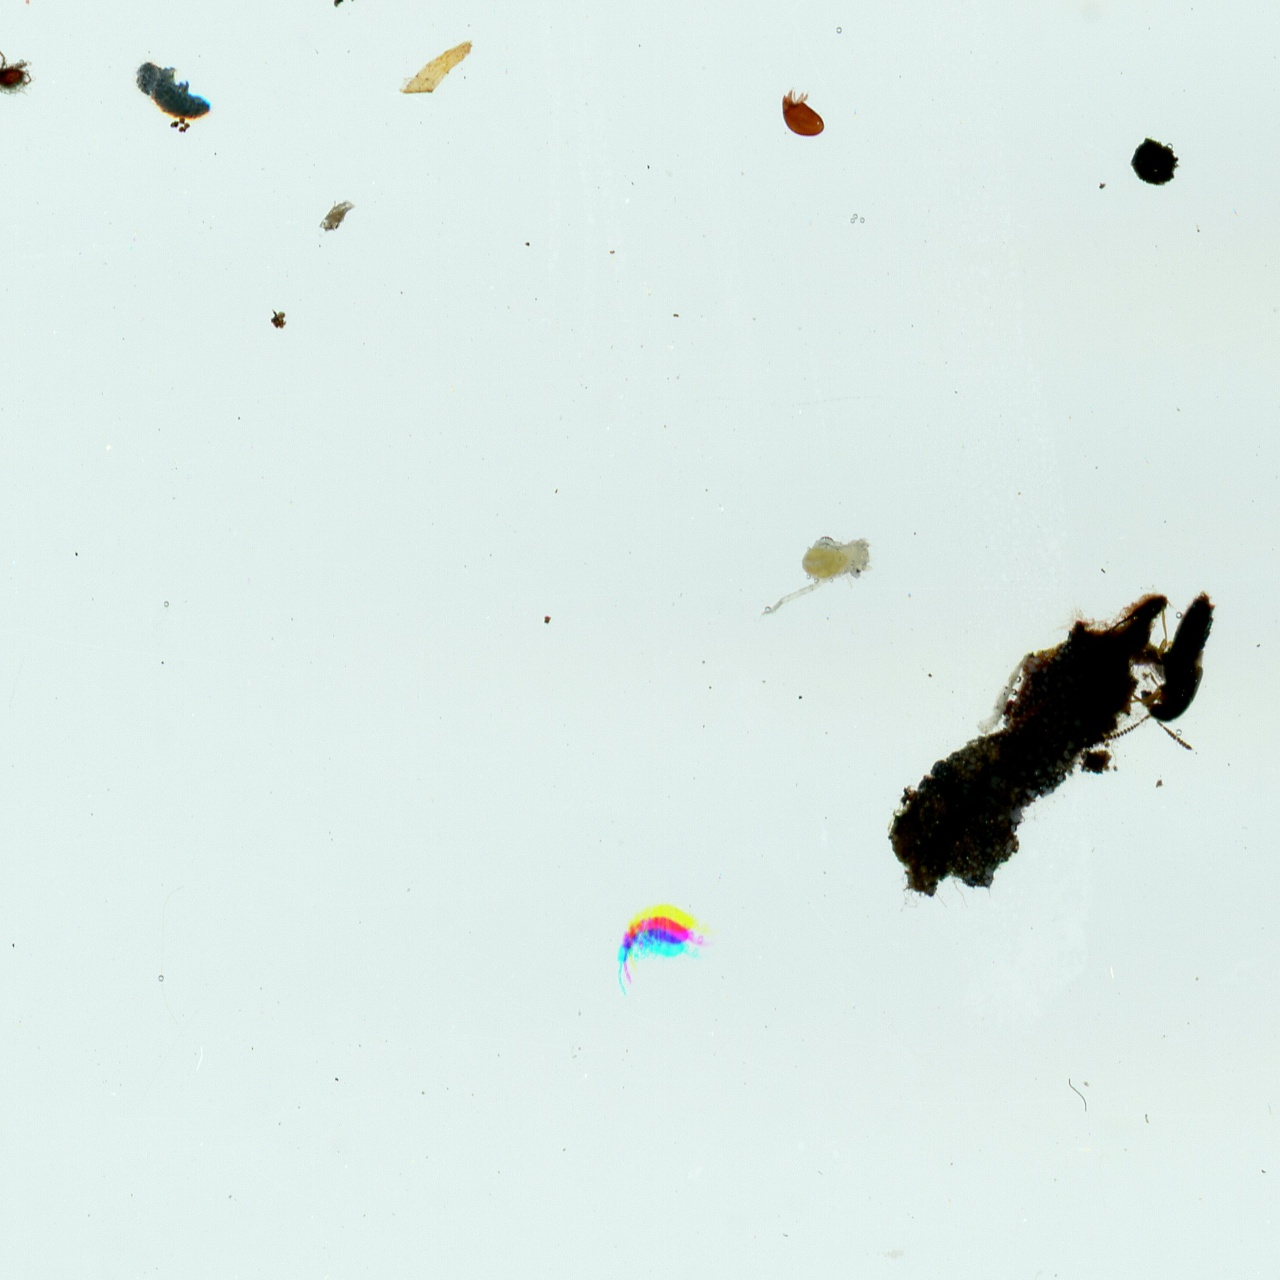arthropod: (1089, 566, 1254, 774), (606, 898, 721, 1002), (121, 45, 223, 142), (771, 86, 835, 145), (0, 42, 40, 100)
